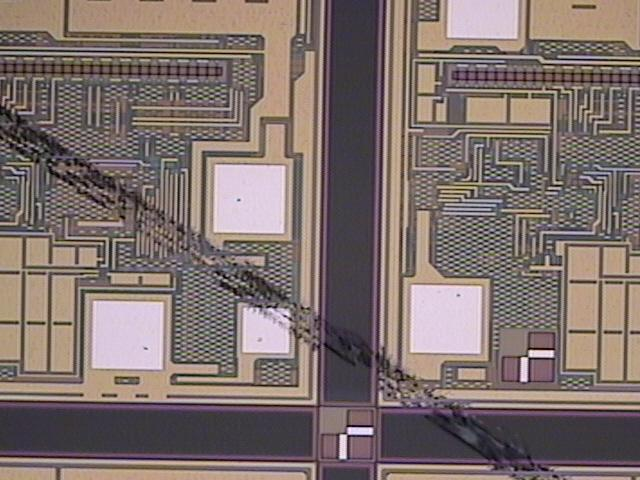SCRATCH: (1, 98, 593, 480)
